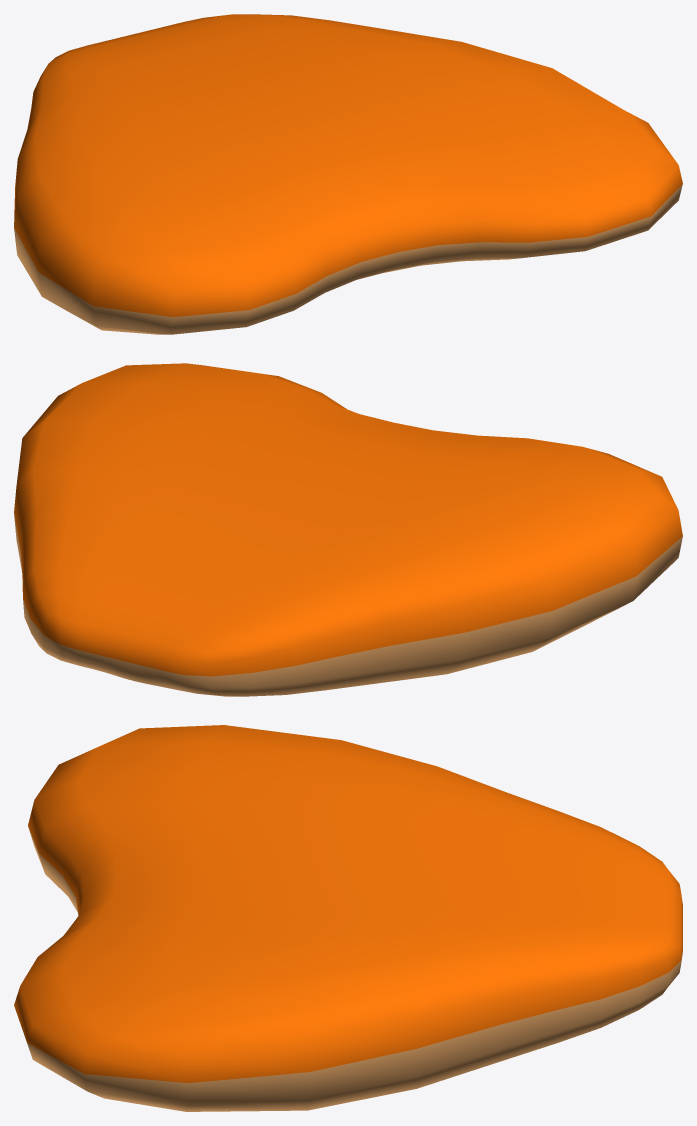
Rendered from menu_main_island.glb.
3 renders of one model, top to bottom at view 1: azimuth 30°, elevation 25°; view 2: azimuth 150°, elevation 25°; view 3: azimuth 270°, elevation 25°, orthographic. The views are drawn at different scales.
Parts seen in each view (by area): view 1: Cube; view 2: Cube; view 3: Cube.
Part boxes in pixels (x1,y1,x2,y2): Cube: (14,14,682,334); Cube: (14,363,682,696); Cube: (14,725,682,1111).
Bounding box in the file's own units: 3.44 × 0.6502 × 3.09.
